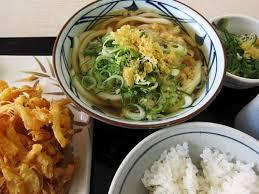bukkake: (60, 1, 219, 124)
kakiage: (1, 81, 77, 194)
